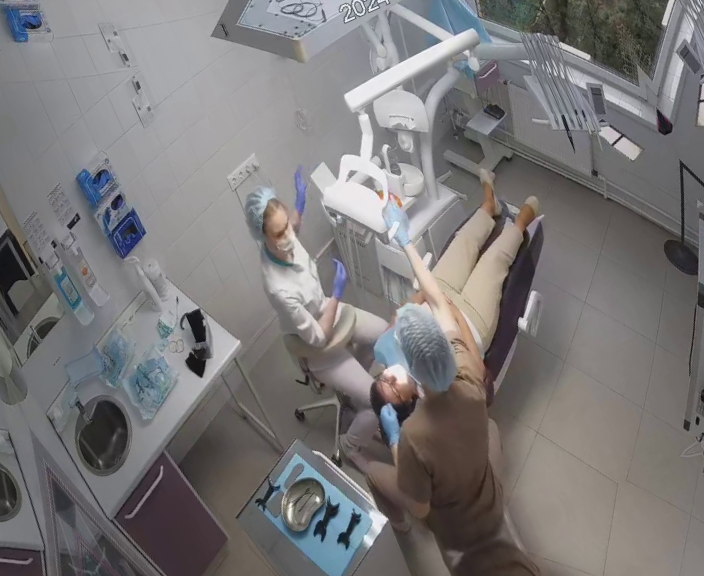Patient: (298, 150, 609, 454)
